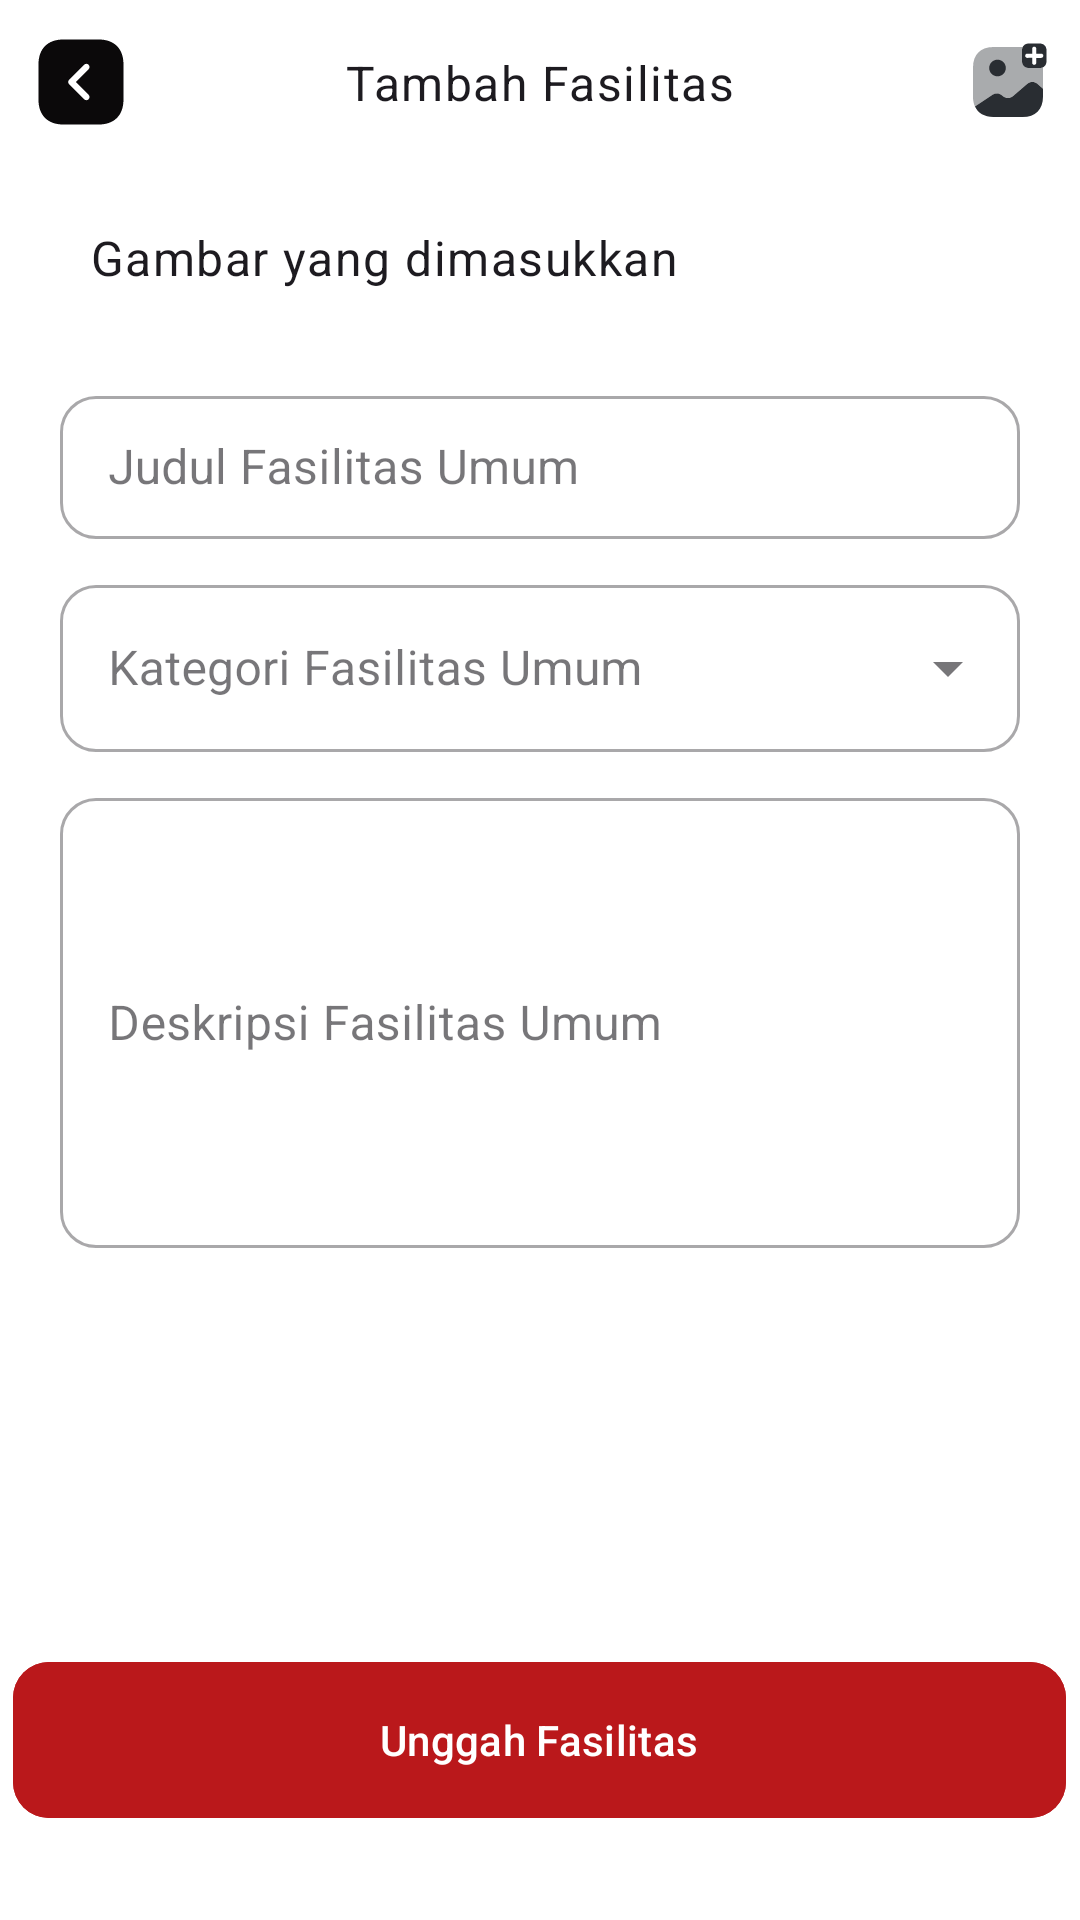

Icon bounding boxes for this 1080×1920 phone screenshot, format region(x1, y1, x2, y2):
add gambar: region(973, 43, 1047, 117)
back: region(38, 39, 124, 125)
